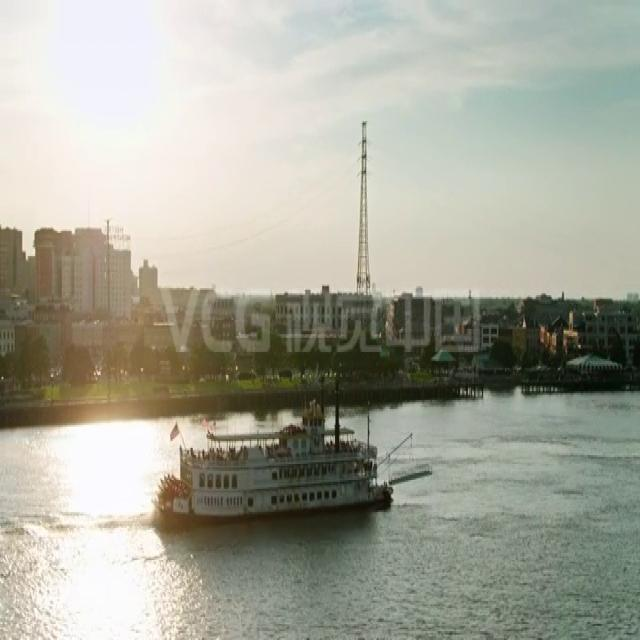passenger ship: (151, 390, 412, 520)
